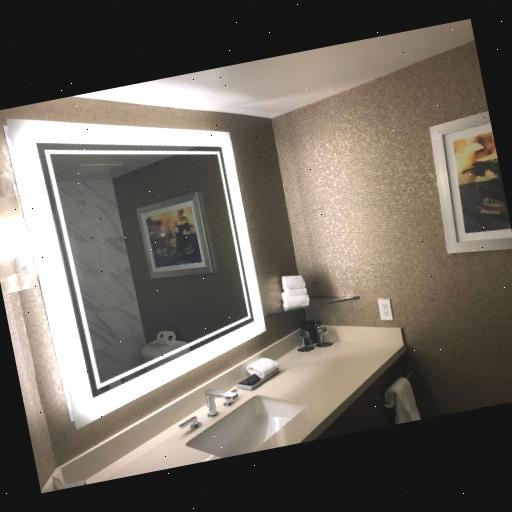clean mirror: (38, 142, 258, 399)
clean_sink: (44, 317, 412, 500)
